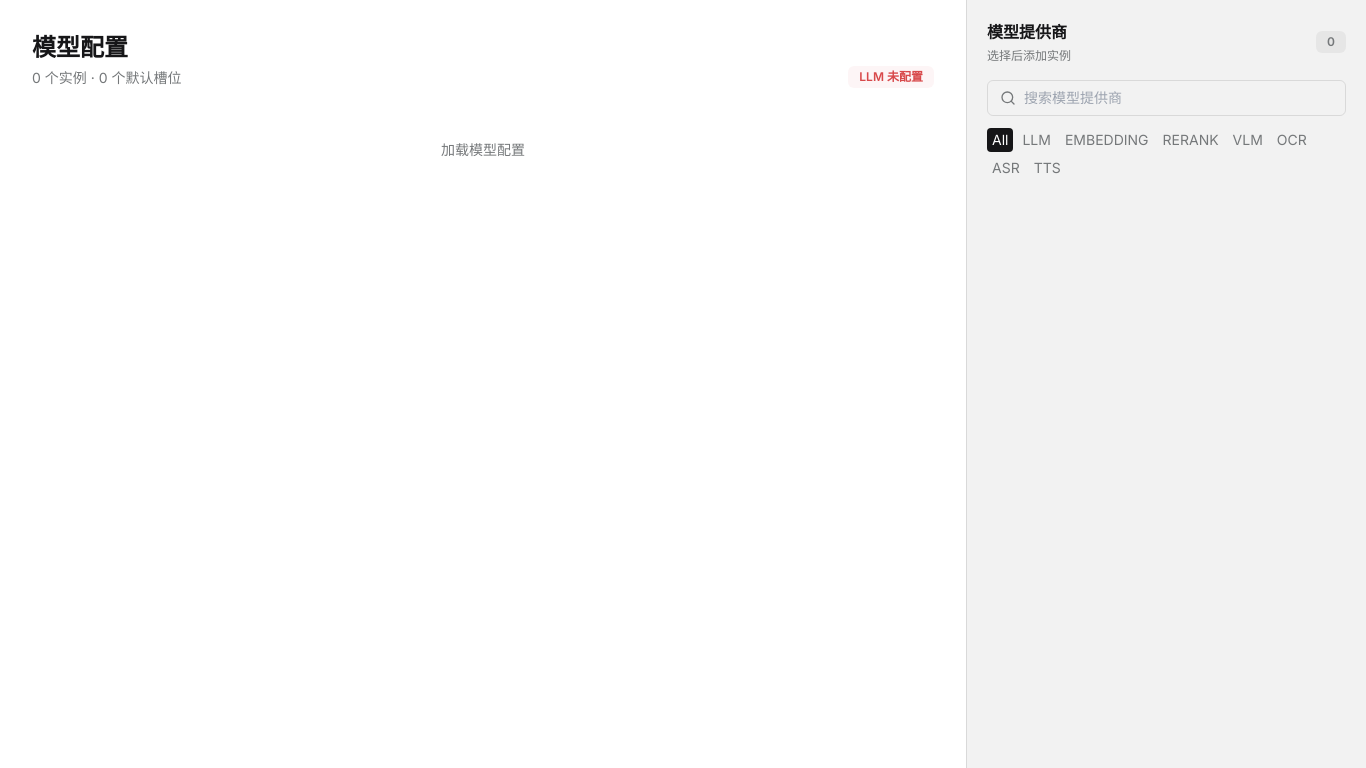
it: RAGFlow-style operations pages › offers OCR, ASR and TTS provider filters and preserves the selected role
Expected: the button "ASR" is shown, left=987, top=156, right=1025, bottom=180
Expected: the button "TTS" is shown, left=1029, top=156, right=1066, bottom=180
Click the button "OCR": coordinates (1292, 140) left=1272, top=128, right=1312, bottom=152
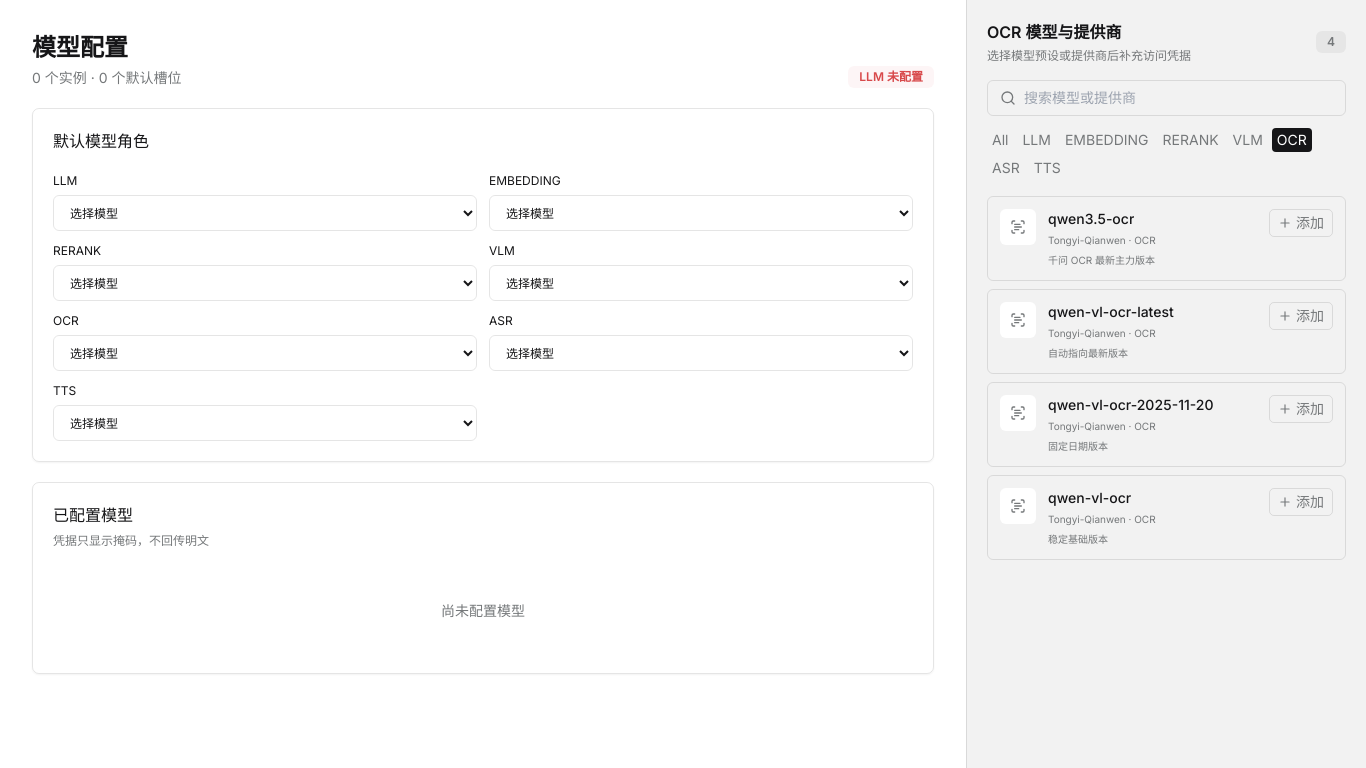
Expected: the button with aria-label "添加 qwen3.5-ocr" is shown
Expected: the button with aria-label "添加 qwen-vl-ocr-latest" is shown, left=1269, top=302, right=1333, bottom=330
Expected: the button with aria-label "添加 qwen-vl-ocr-2025-11-20" is shown, left=1269, top=395, right=1333, bottom=423
Click the button with aria-label "添加 qwen3.5-ocr": coordinates (1301, 223) left=1269, top=209, right=1333, bottom=237
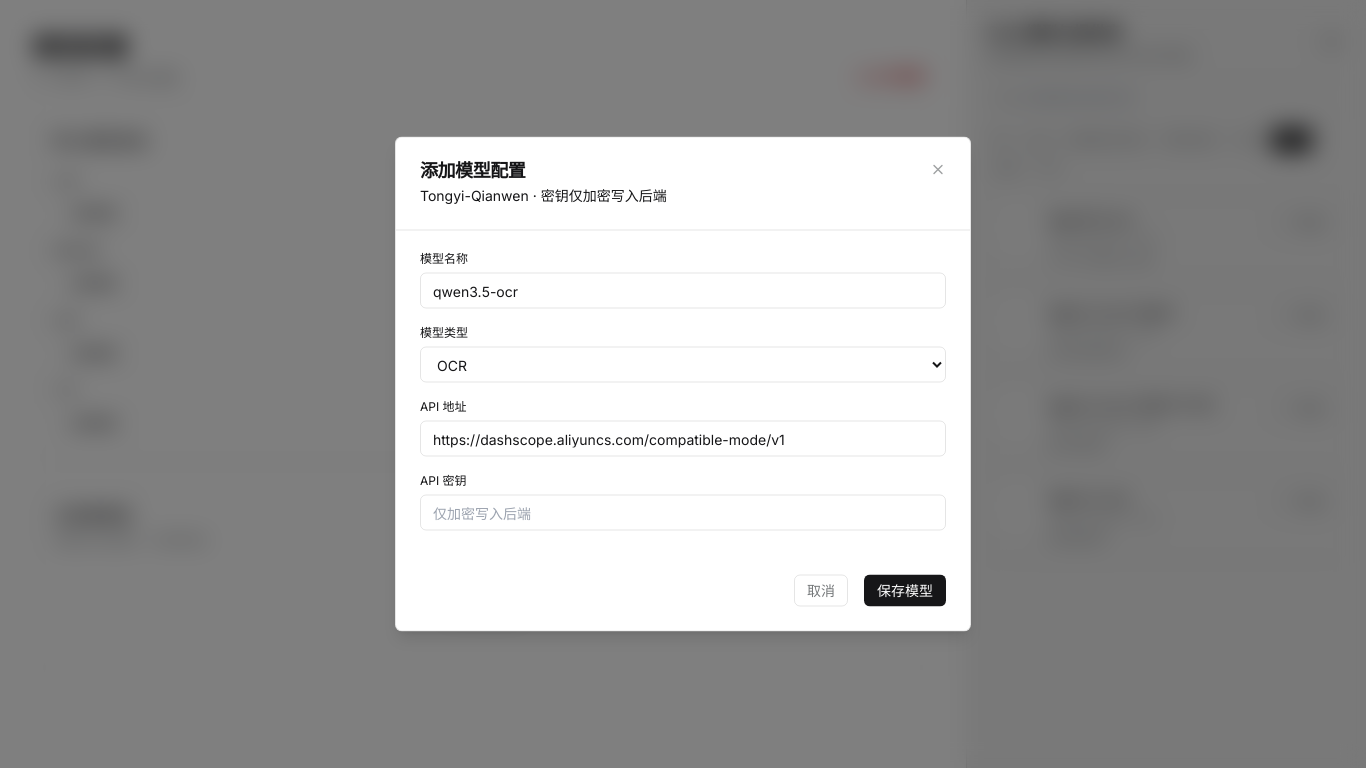
Expected: the dropdown labelled "模型类型" shows "OCR", left=420, top=346, right=946, bottom=382
Expected: the field labelled "模型名称" holds "qwen3.5-ocr", left=420, top=272, right=946, bottom=308
